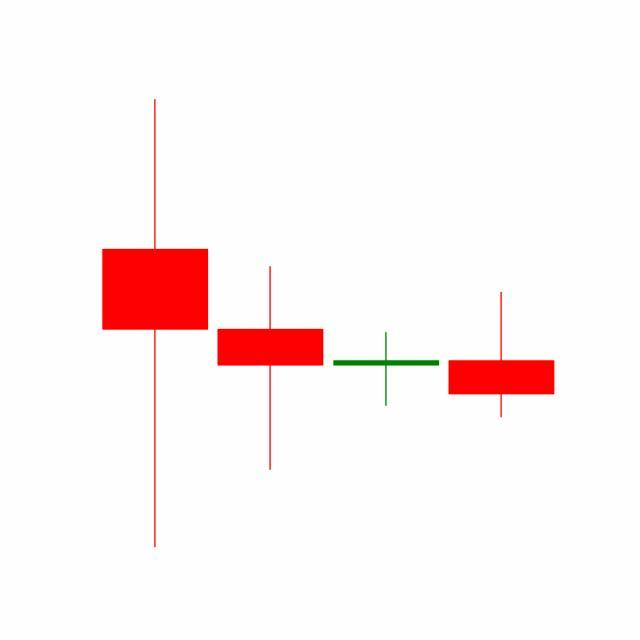Spinning Top: (329, 332, 445, 409)
